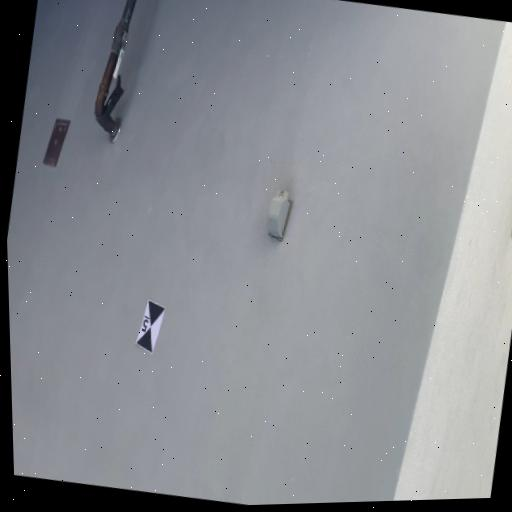target5: (136, 298, 165, 355)
